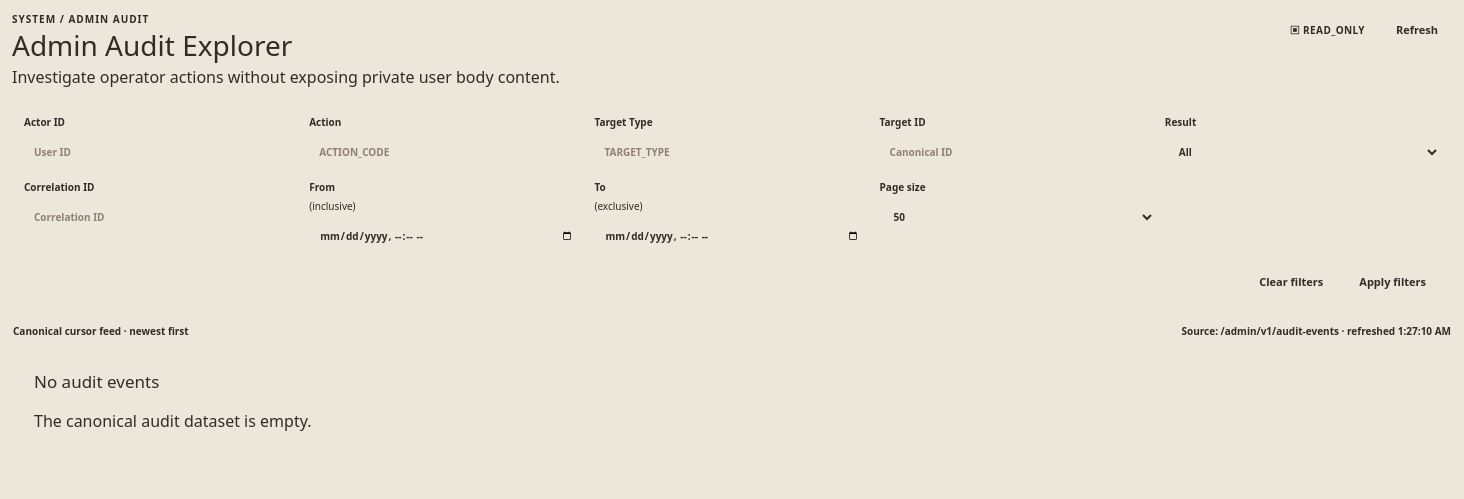
Test: Admin Audit Explorer › applies filters only on submit and supports explicit retry
The width and height of the screenshot is (1464, 499).
Expected: the heading "No audit events" is shown, [34,370,159,393]
Type "player_lookup" into the field labelled "Action" at (447, 152), box [309,134,584,170]
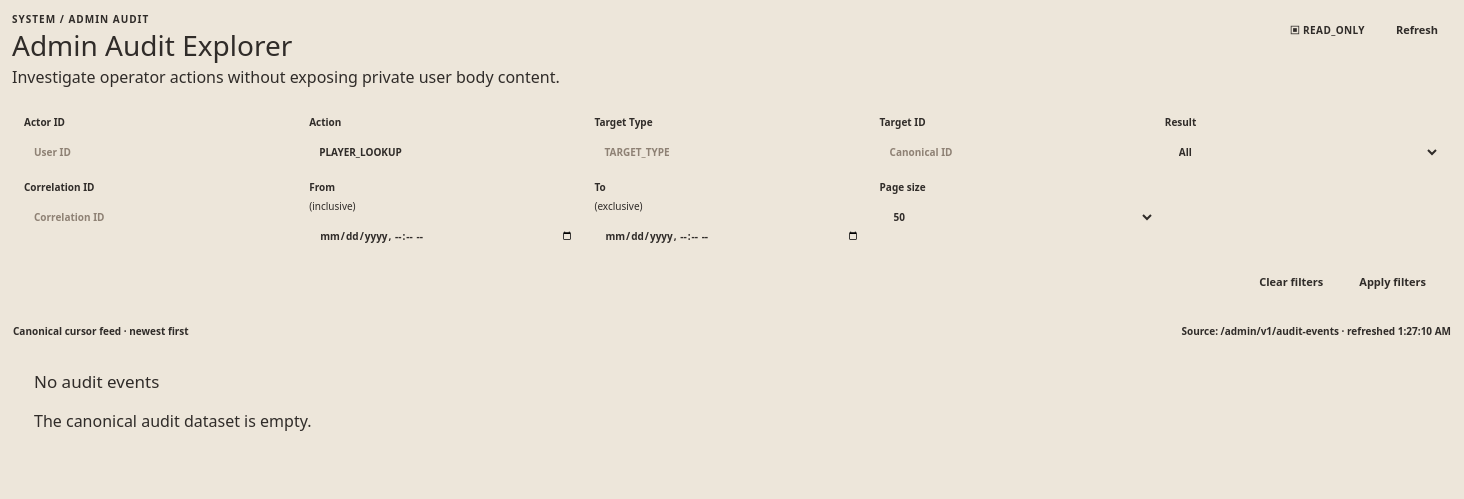
Click the button "Apply filters" at (1393, 282), box [1345,264,1440,300]
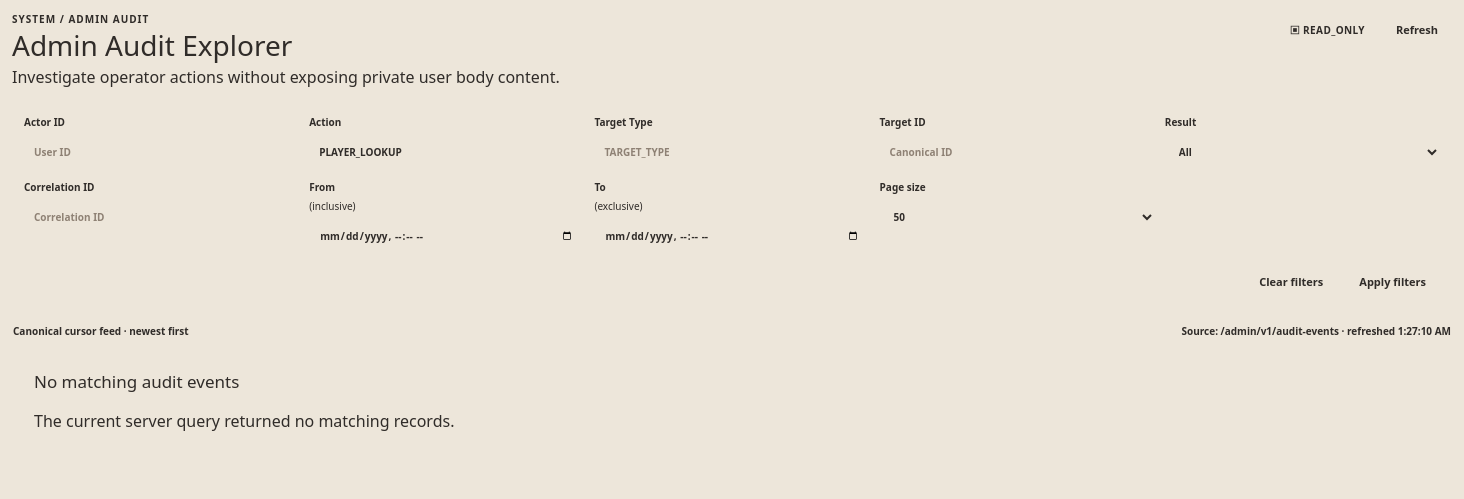
Click the button "Refresh" at (1417, 30), box [1382,12,1452,48]
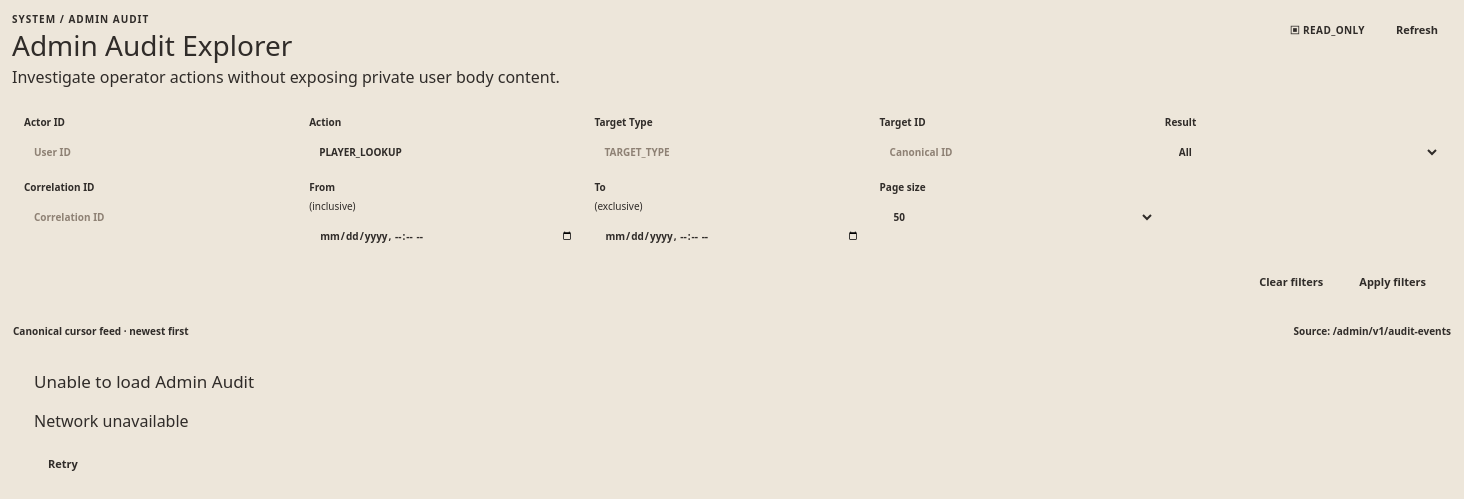
Expected: the heading "Unable to load Admin Audit" is shown, [34,370,254,393]
Click the button "Retry" at (63, 465), box [34,447,92,483]
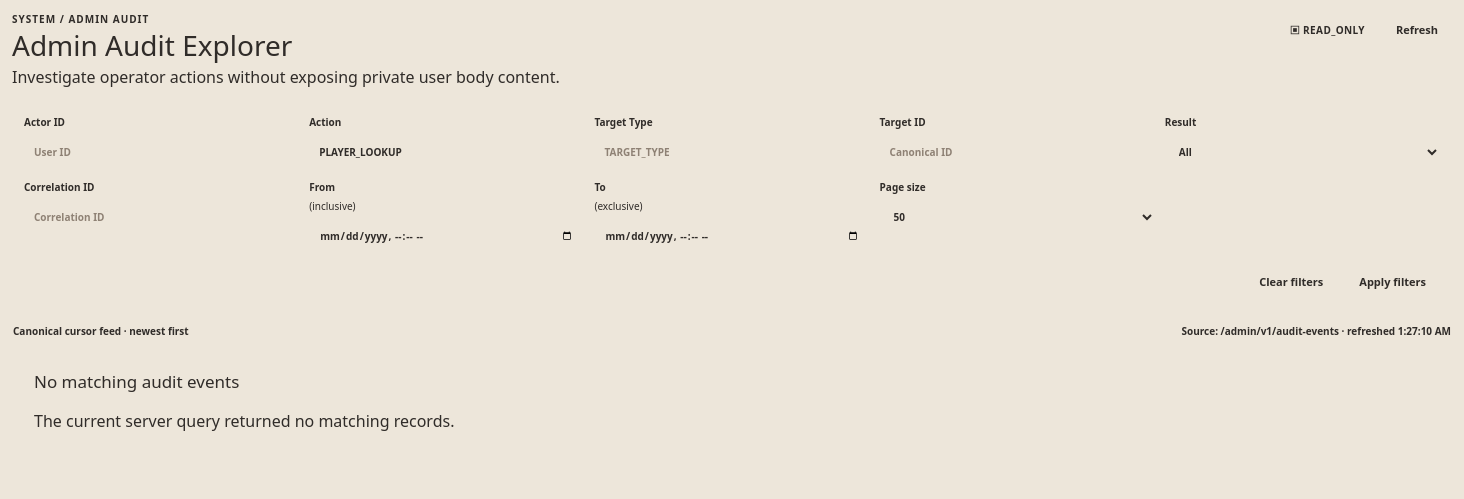
Expected: the heading "No matching audit events" is shown, [34,370,239,393]
